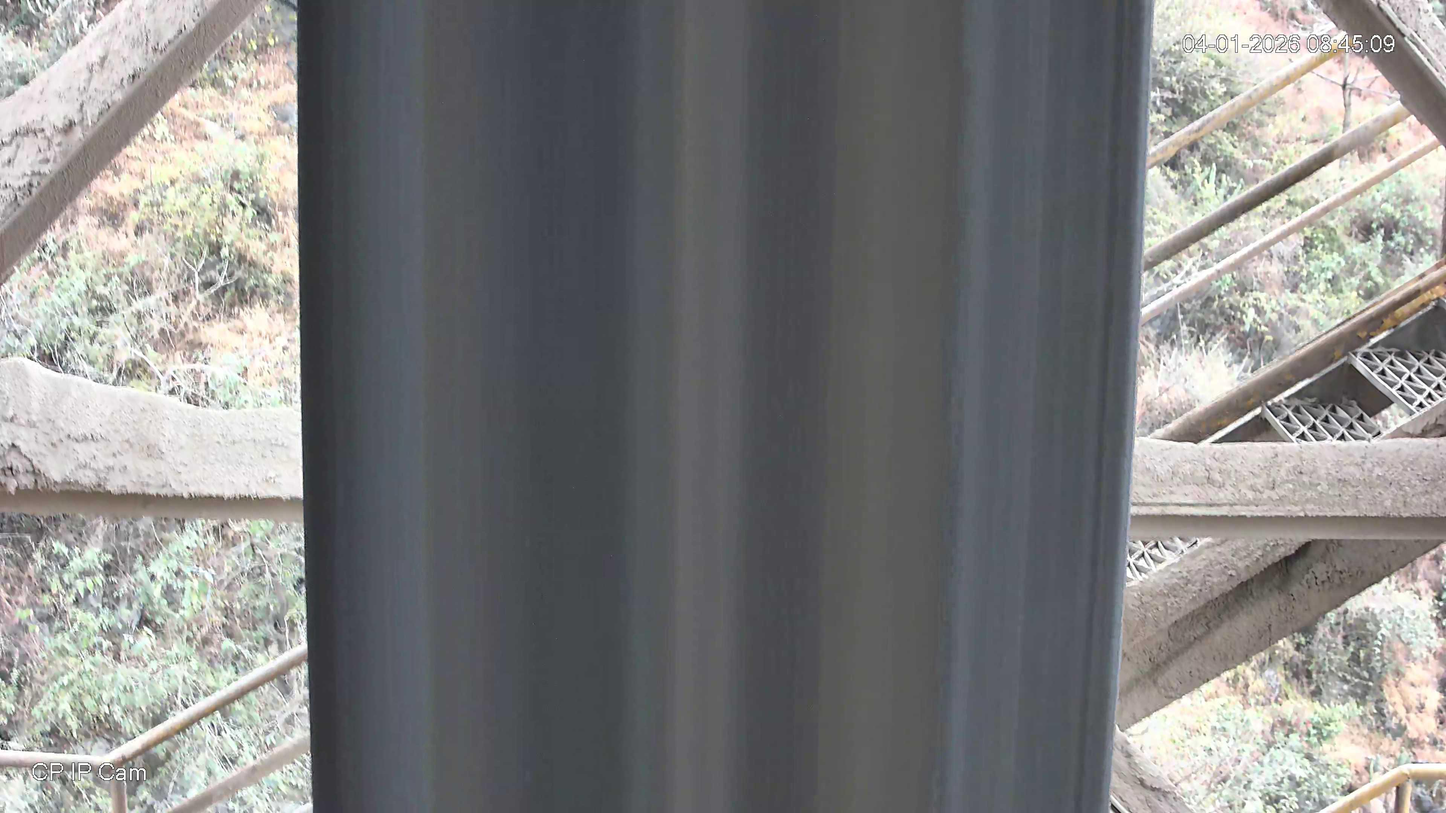belt_roi: (294, 0, 1154, 813)
